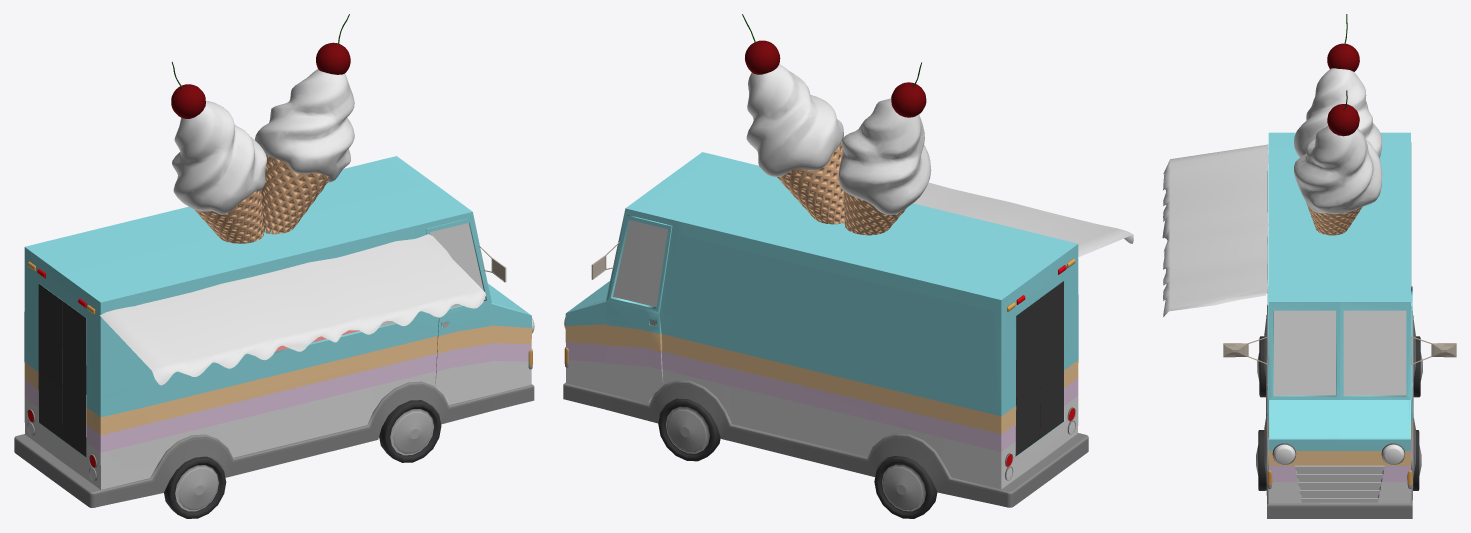
Rendered from Eis.Truck.fbx.
The picture shows the model from 3 angles, left to right: view 1: azimuth 30°, elevation 25°; view 2: azimuth 150°, elevation 25°; view 3: azimuth 270°, elevation 25°; orthographic projection. The views are drawn at different scales.
Parts seen in each view (by area): view 1: Eis.Truck; view 2: Eis.Truck; view 3: Eis.Truck.
Boxes of the visible parts, x1=… form: Eis.Truck: x1=14, y1=14, x2=534, y2=518; Eis.Truck: x1=563, y1=14, x2=1133, y2=518; Eis.Truck: x1=1162, y1=14, x2=1456, y2=518.
Bounding box in the file's own units: 684 × 615 × 416.
